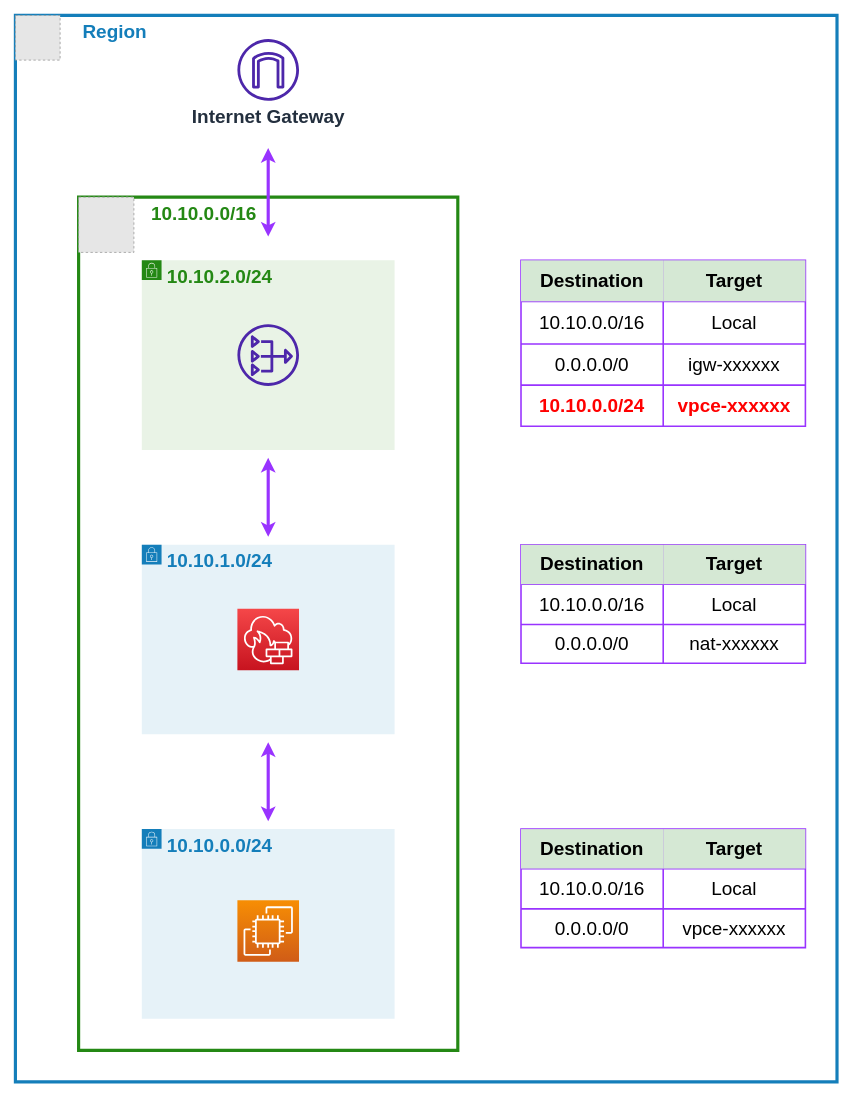
This 852x1097 diagram has some shape labels left out. Grey dashed boxes stand in for pictures. Each missing label, with the box of its shape:
EC2: (237, 899, 299, 962)
NAT Gateway: (237, 324, 299, 386)
Network Firewall: (237, 608, 299, 670)
